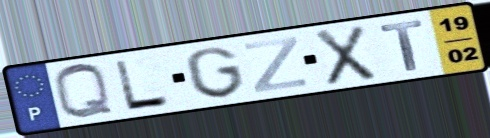G: (182, 44, 248, 101)
L: (111, 58, 174, 112)
Q: (50, 62, 118, 122)
T: (377, 18, 426, 73)
X: (312, 23, 379, 88)
Z: (242, 34, 310, 95)
